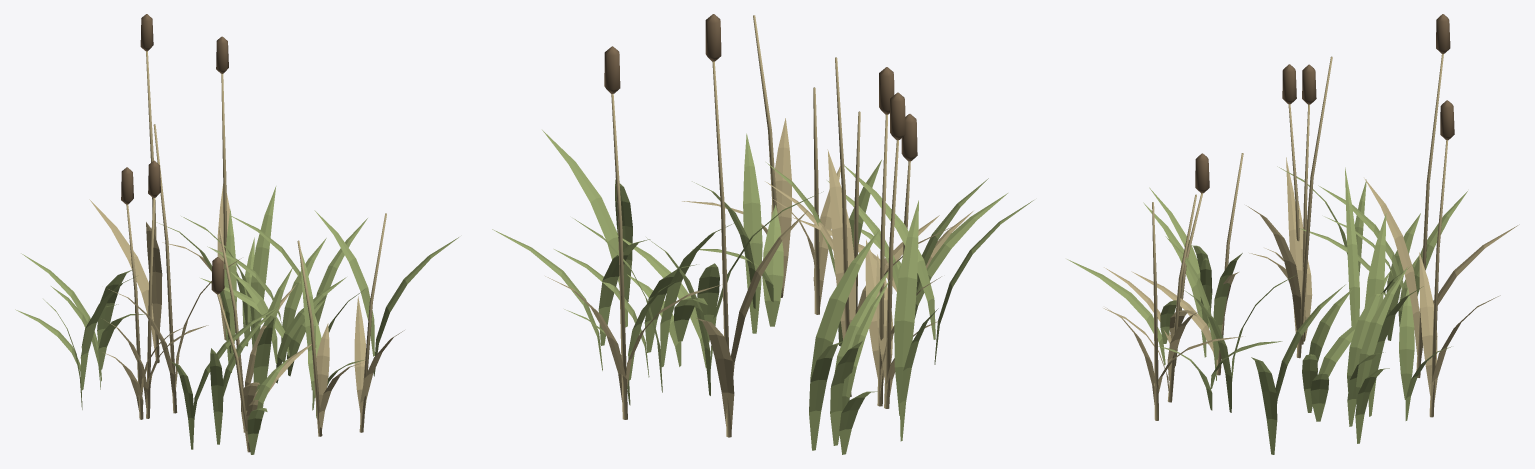
File: CW_Reeds.fbx
The picture shows the model from 3 angles, left to right: view 1: azimuth 30°, elevation 25°; view 2: azimuth 150°, elevation 25°; view 3: azimuth 270°, elevation 25°; orthographic projection. The views are drawn at different scales.
Visible parts, largest first — view 1: CW_Reeds; view 2: CW_Reeds; view 3: CW_Reeds.
Boxes of the visible parts, left/top/right/bottom form: CW_Reeds: left=15, top=14, right=458, bottom=454; CW_Reeds: left=492, top=14, right=1033, bottom=454; CW_Reeds: left=1067, top=14, right=1519, bottom=454.
Bounding box in the file's own units: 2.52 × 2.24 × 2.54.
